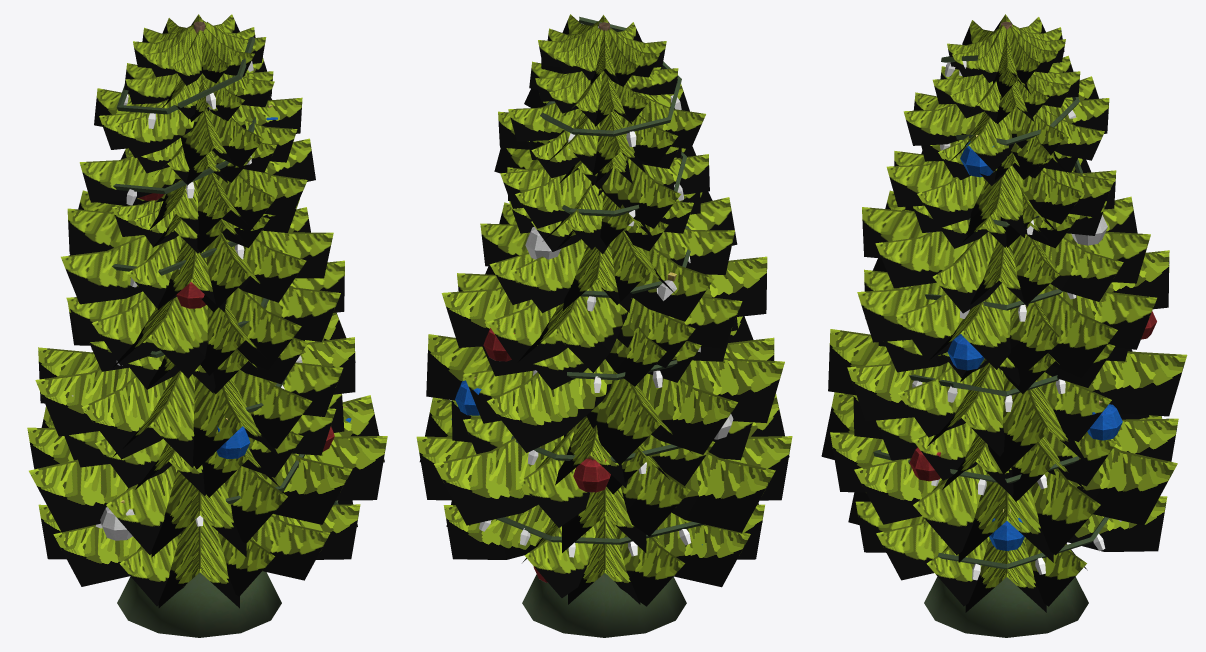
Rendered from ChristmasTree.glb.
The picture shows the model from 3 angles, left to right: view 1: azimuth 30°, elevation 25°; view 2: azimuth 150°, elevation 25°; view 3: azimuth 270°, elevation 25°; orthographic projection.
Visible parts, largest first — view 1: ChristmasTree; view 2: ChristmasTree; view 3: ChristmasTree.
Part boxes in pixels (x1,y1,x2,y2): ChristmasTree: (27, 14, 387, 637); ChristmasTree: (416, 14, 792, 637); ChristmasTree: (821, 14, 1187, 637).
Size of the model in its own units: 1.64 by 2.65 by 1.53.
Materials: 3 (2 with a texture image).
